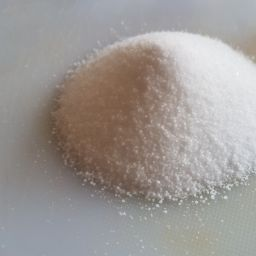Salt: (22, 26, 256, 217), (88, 62, 252, 166)
